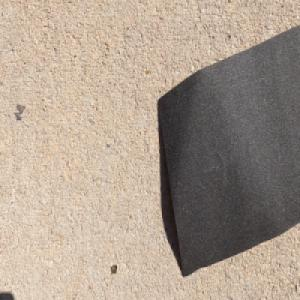PaintChip: (157, 21, 300, 278)
